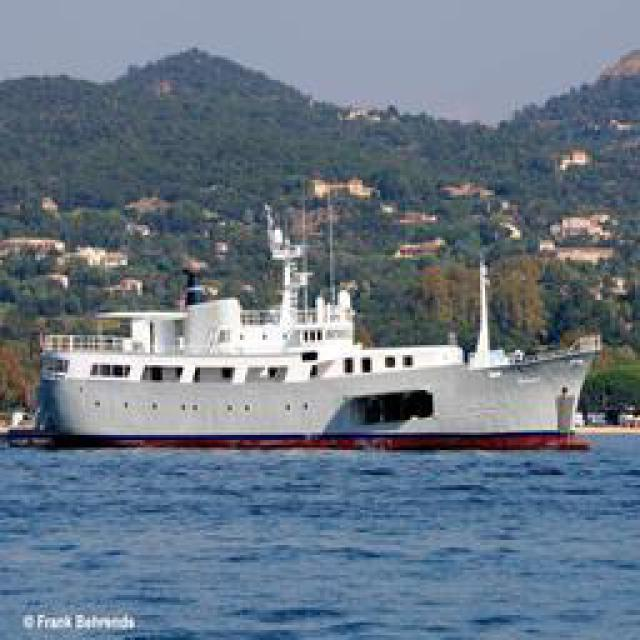Ship: (19, 225, 604, 455)
